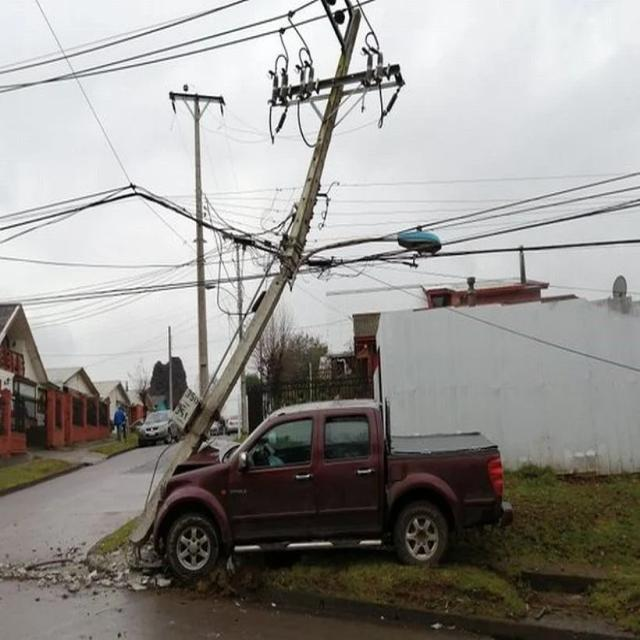Inclined Pole: (127, 0, 454, 546)
